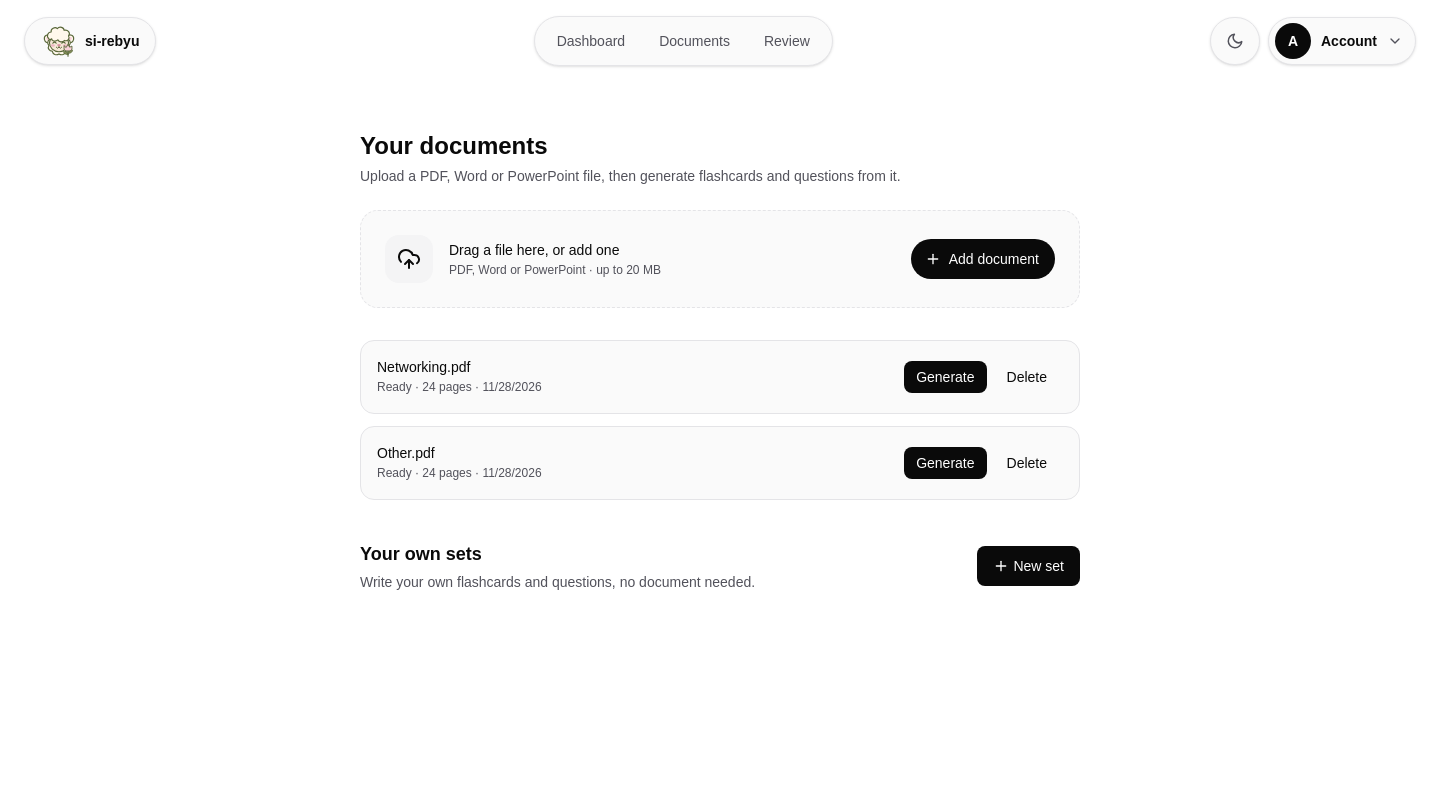
Test: Documents page › clicking Generate on a document opens the modal for that document
Expected: the text "Networking.pdf" is shown, x1=377 y1=359 x2=470 y2=375
Click the button "Generate" in the row of "Networking.pdf" at x=945, y=377, box x1=904 y1=361 x2=987 y2=393
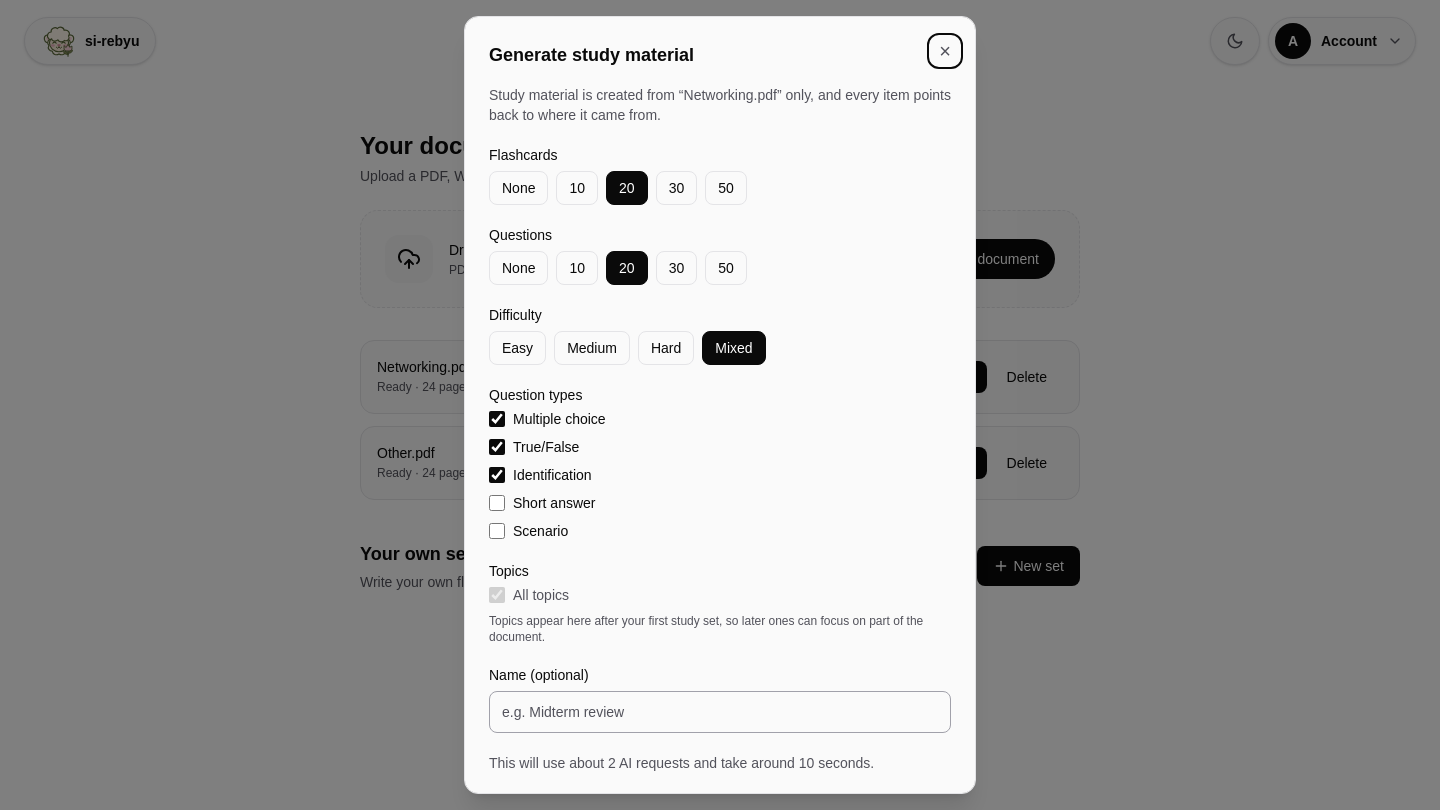
Expected: the text "Networking.pdf" is shown, x1=684 y1=87 x2=777 y2=103
